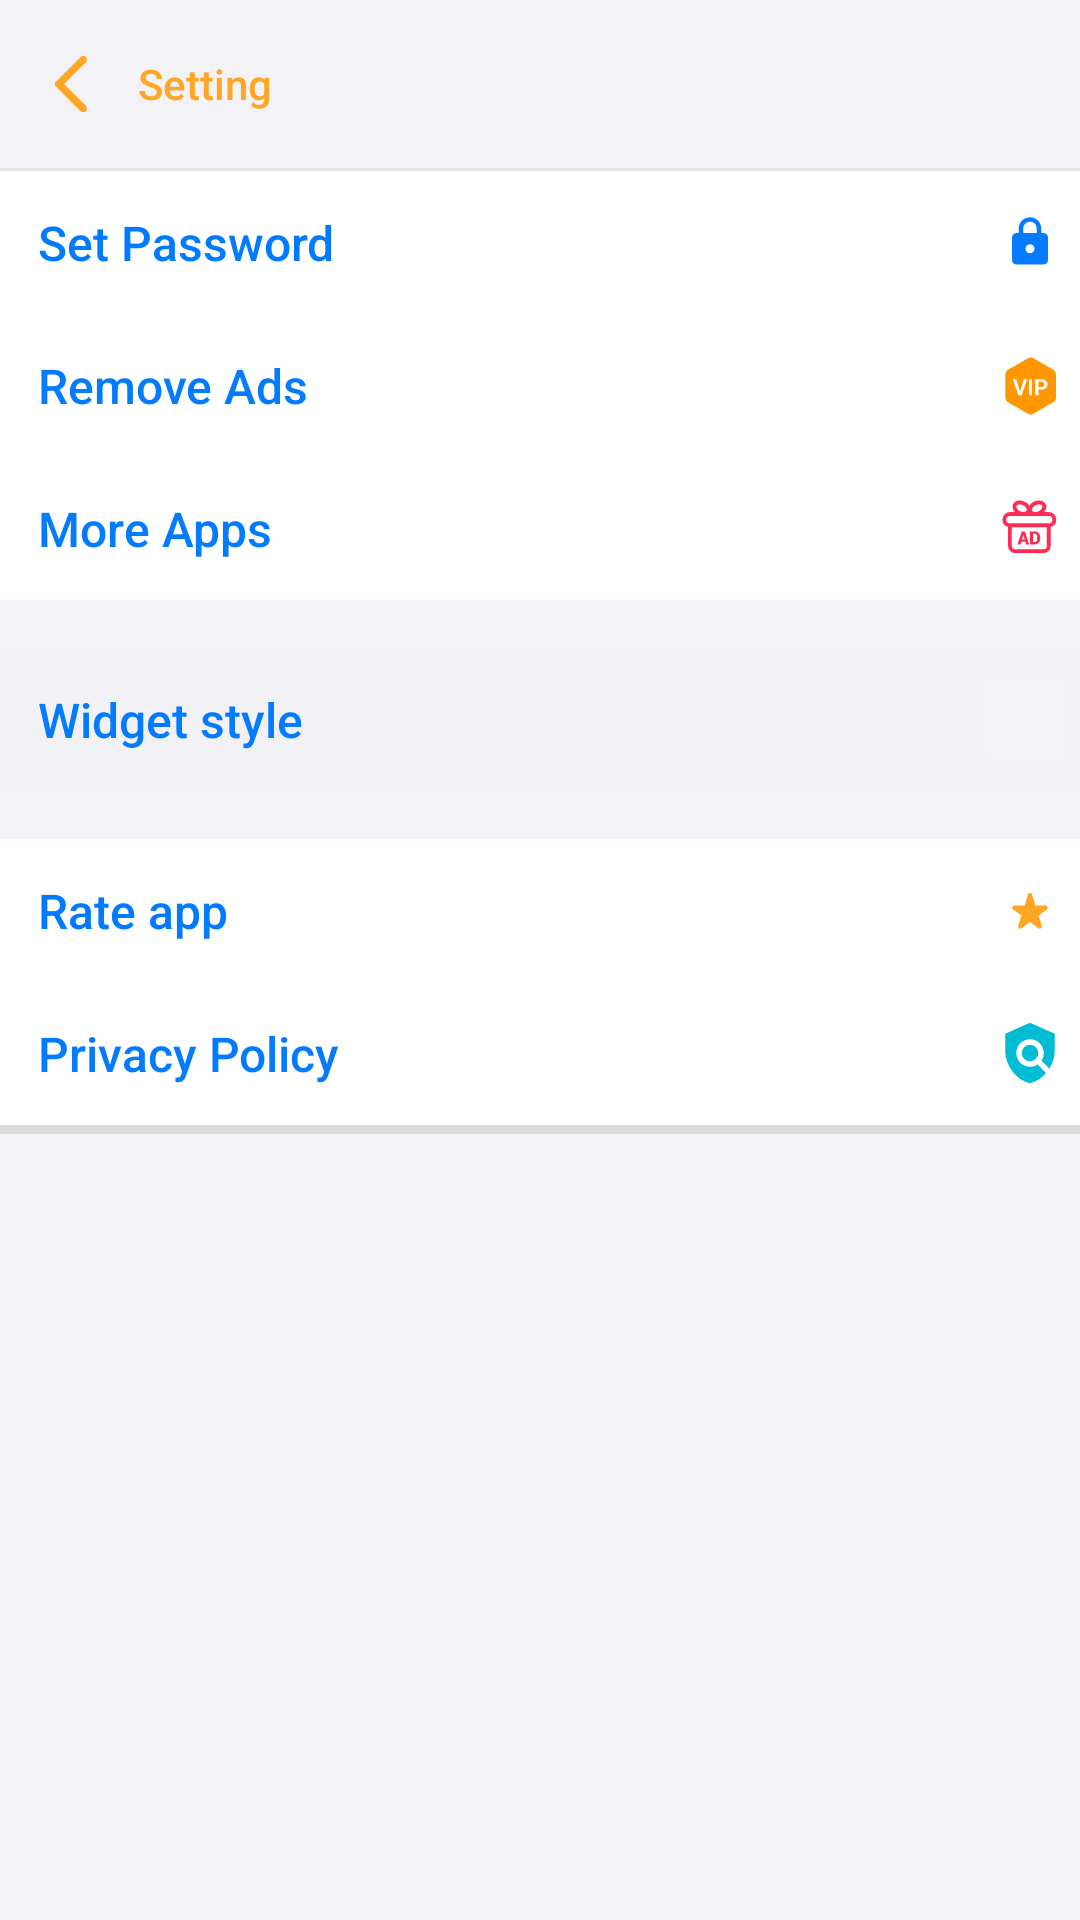

Icon click points for this 1080x1920 phone screenshot, format (x=x, y=y):
arrow: (x=70, y=84)
lock: (x=1030, y=241)
more apps: (x=1029, y=526)
privacy policy: (x=1030, y=1053)
rate: (x=1030, y=911)
remove ads: (x=1030, y=386)
